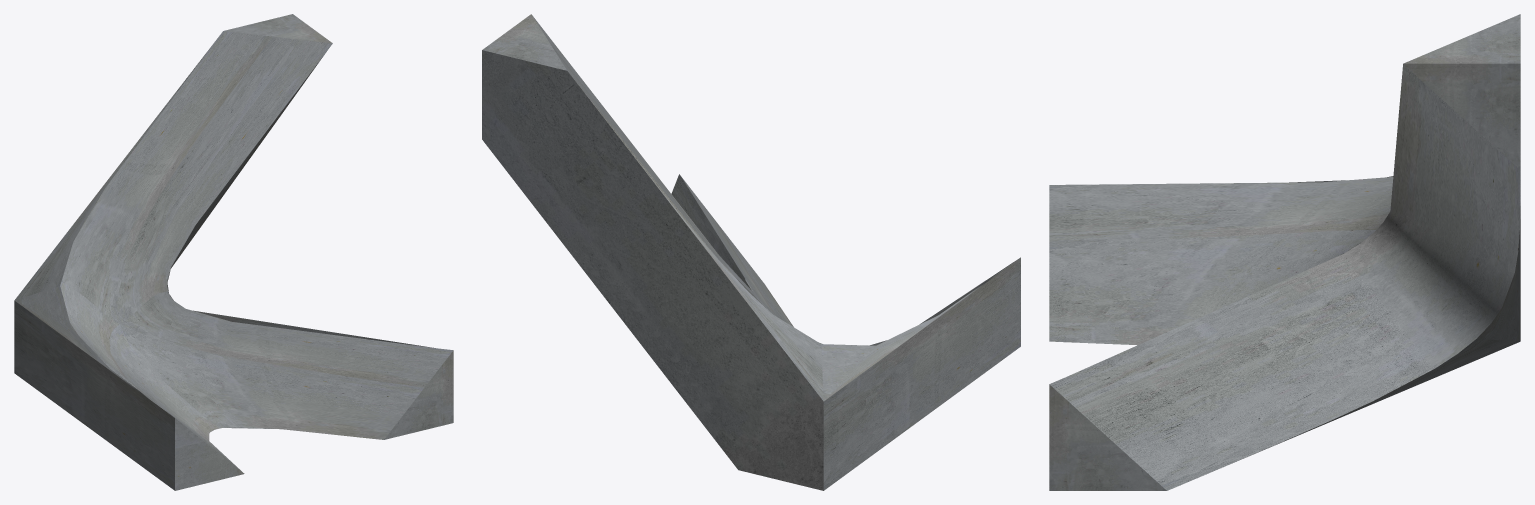
File: module_M3.fbx
3 views of the same model, side by side, from view 1: azimuth 30°, elevation 25°; view 2: azimuth 150°, elevation 25°; view 3: azimuth 270°, elevation 25° (orthographic). The views are drawn at different scales.
Parts seen in each view (by area): view 1: modules; view 2: modules; view 3: modules.
Part boxes in pixels (bbox=[...]): modules: bbox=[14, 14, 453, 490]; modules: bbox=[482, 14, 1020, 490]; modules: bbox=[1049, 14, 1520, 490].
Bounding box in the file's own units: 1000 × 1000 × 1000.
Materials: 1 (1 with a texture image).
